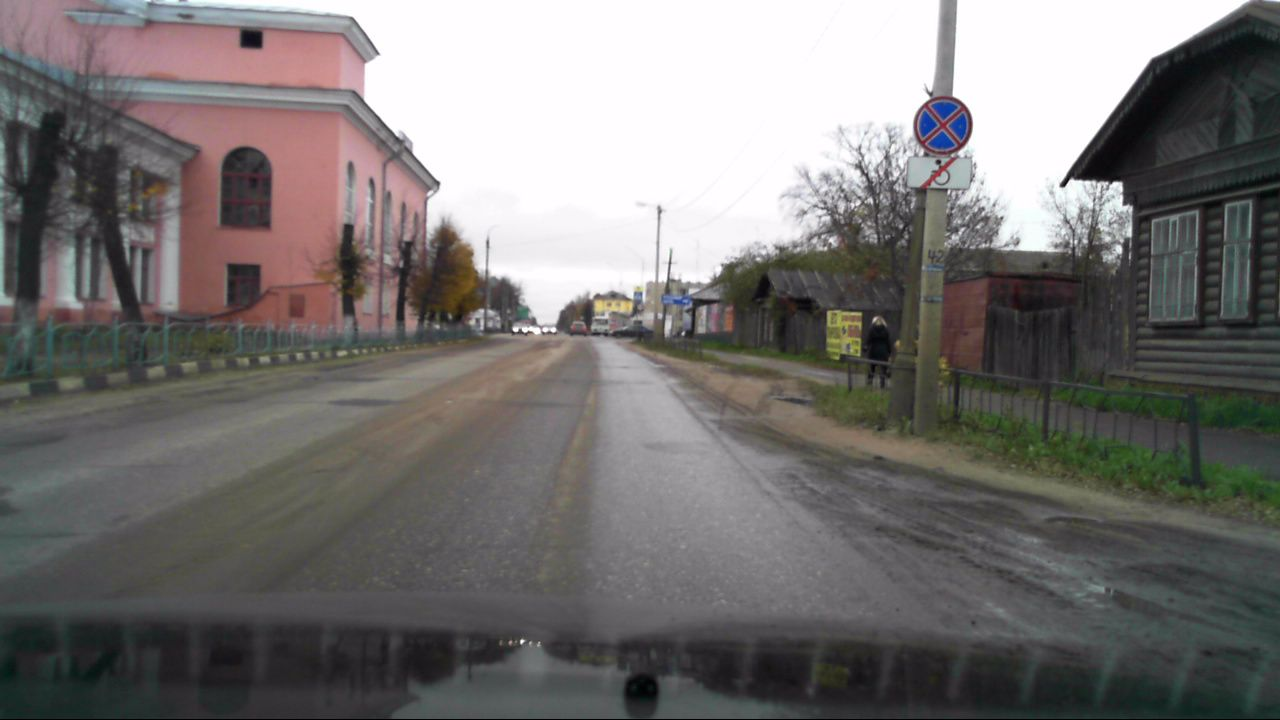No Parking: (915, 96, 972, 154)
